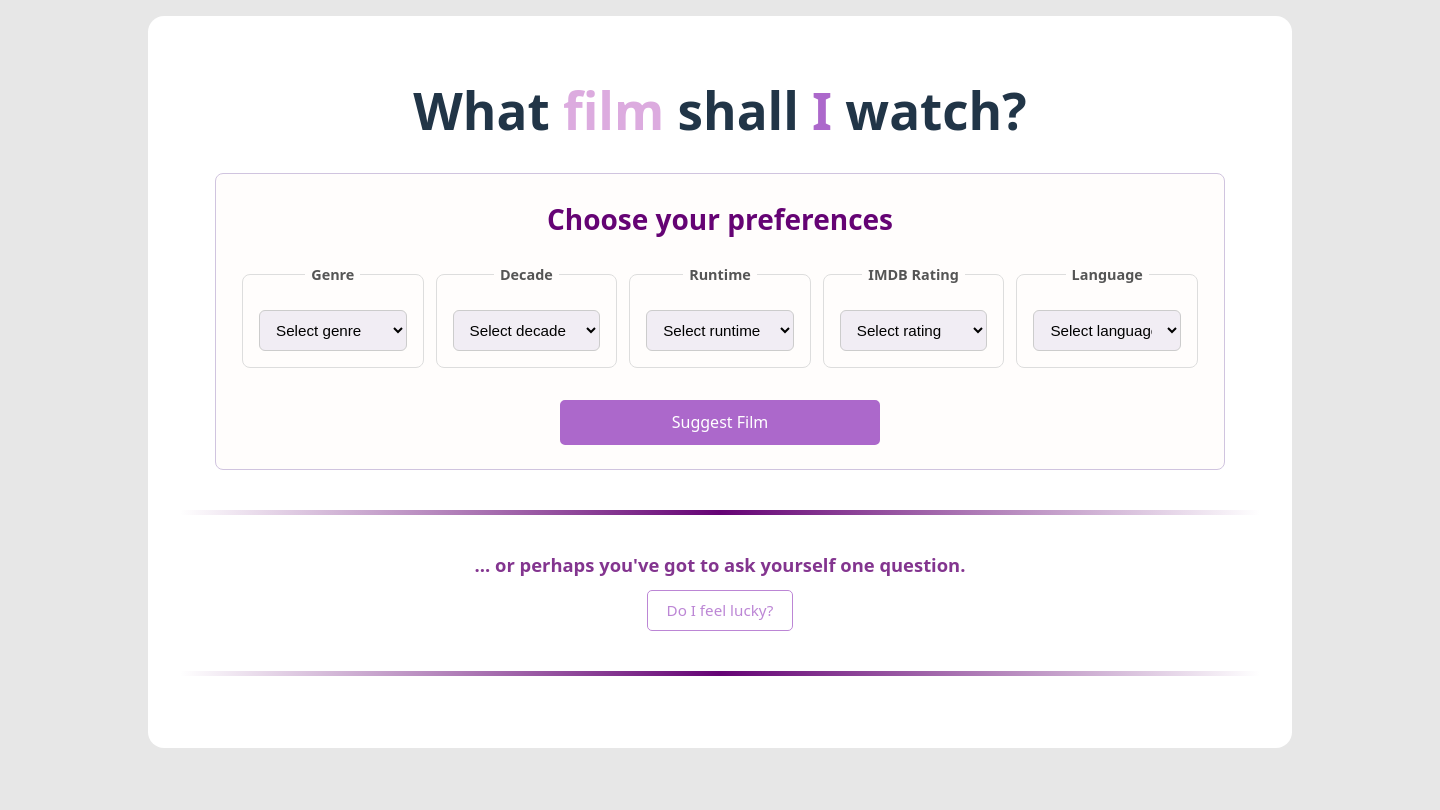
App Component › "Lucky" endpoint › caps the localStorage history at 500 films via the lucky endpoint, dropping the oldest entry
The image size is (1440, 810).
Step 1. Click the button "Do I feel lucky?" → (720, 610), box 647,590 -> 793,630
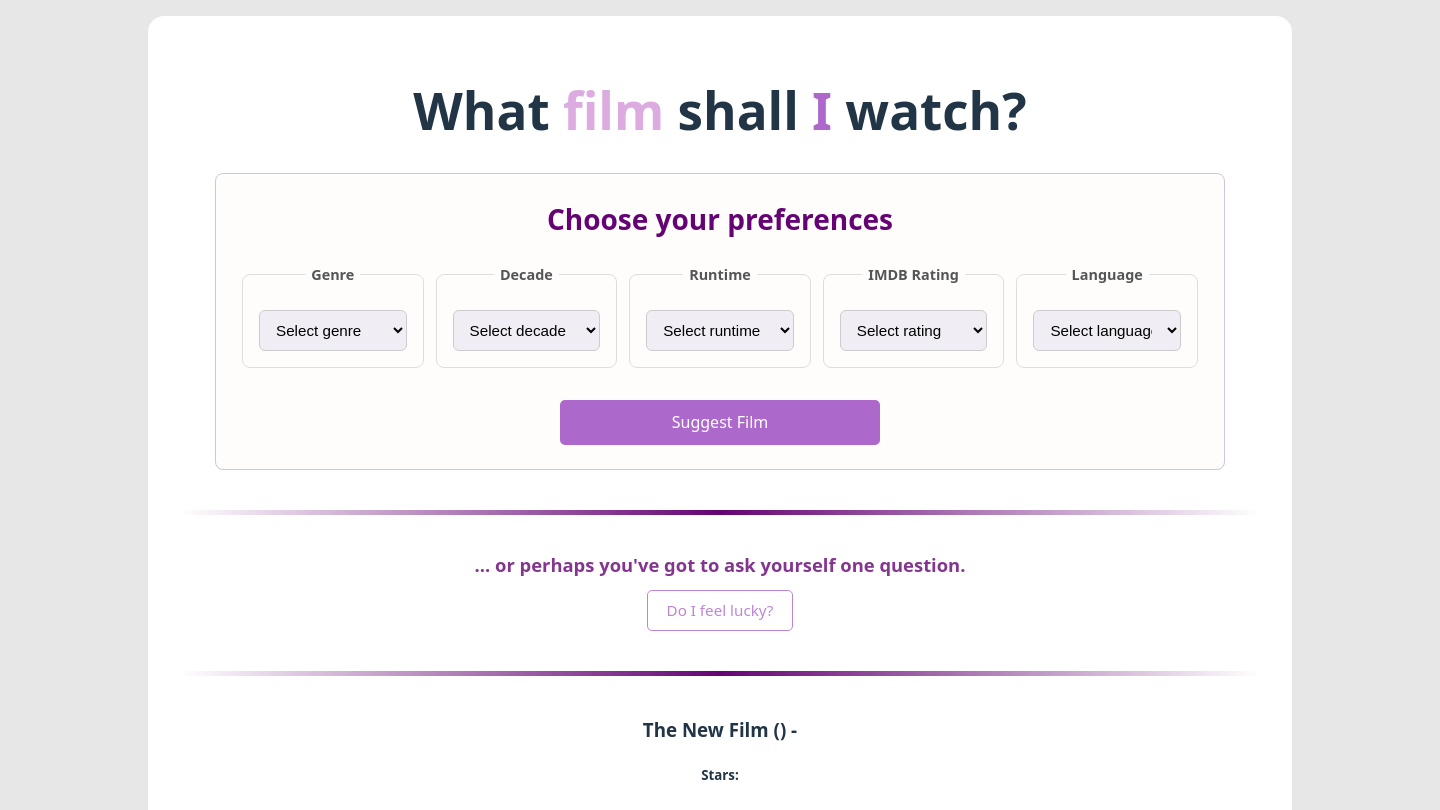
Check: the heading "The New Film () -" is shown, box 643,716 -> 797,742
